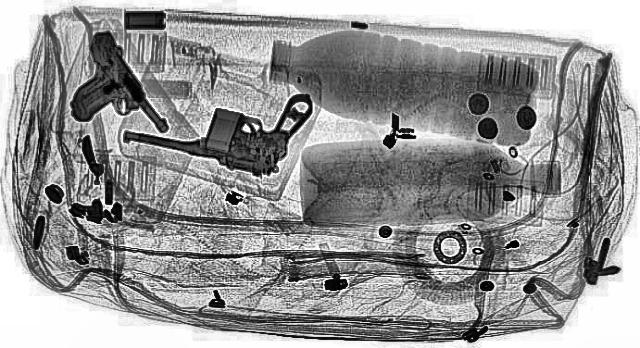Gun: (110, 64, 348, 180), (19, 28, 184, 144)
